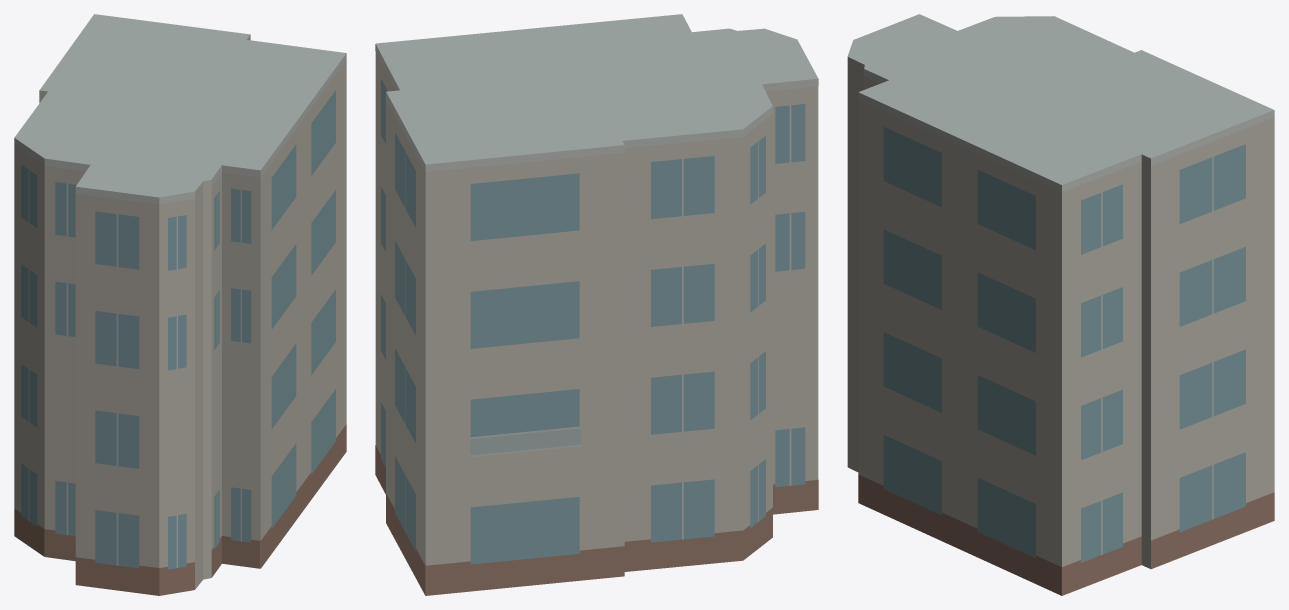
File: survey-upis-32970919.glb
3 renders of one model, left to right at view 1: azimuth 30°, elevation 25°; view 2: azimuth 150°, elevation 25°; view 3: azimuth 270°, elevation 25°, orthographic. The views are drawn at different scales.
Parts seen in each view (by area): view 1: survey-upis-32970919.tmp; view 2: survey-upis-32970919.tmp; view 3: survey-upis-32970919.tmp.
Part boxes in pixels (x1,y1,x2,y2): survey-upis-32970919.tmp: [14, 14, 346, 595]; survey-upis-32970919.tmp: [375, 14, 818, 595]; survey-upis-32970919.tmp: [847, 14, 1274, 595].
Size of the model in its own units: 12.34 by 13.8 by 13.01.
